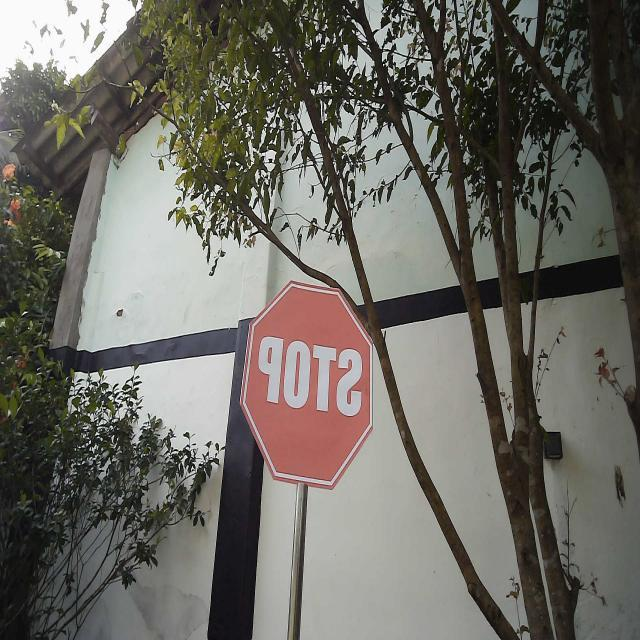stop: (236, 276, 376, 494)
